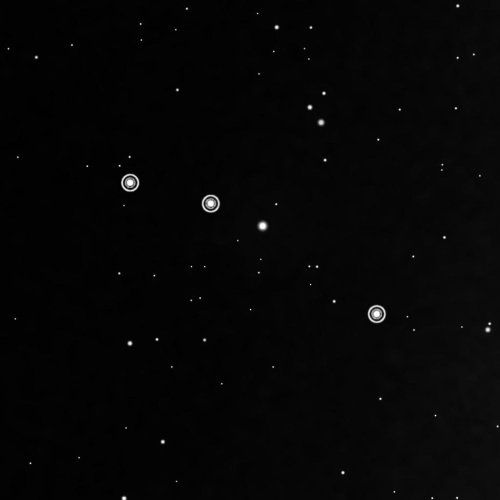vulpecula: (116, 166, 389, 327)
